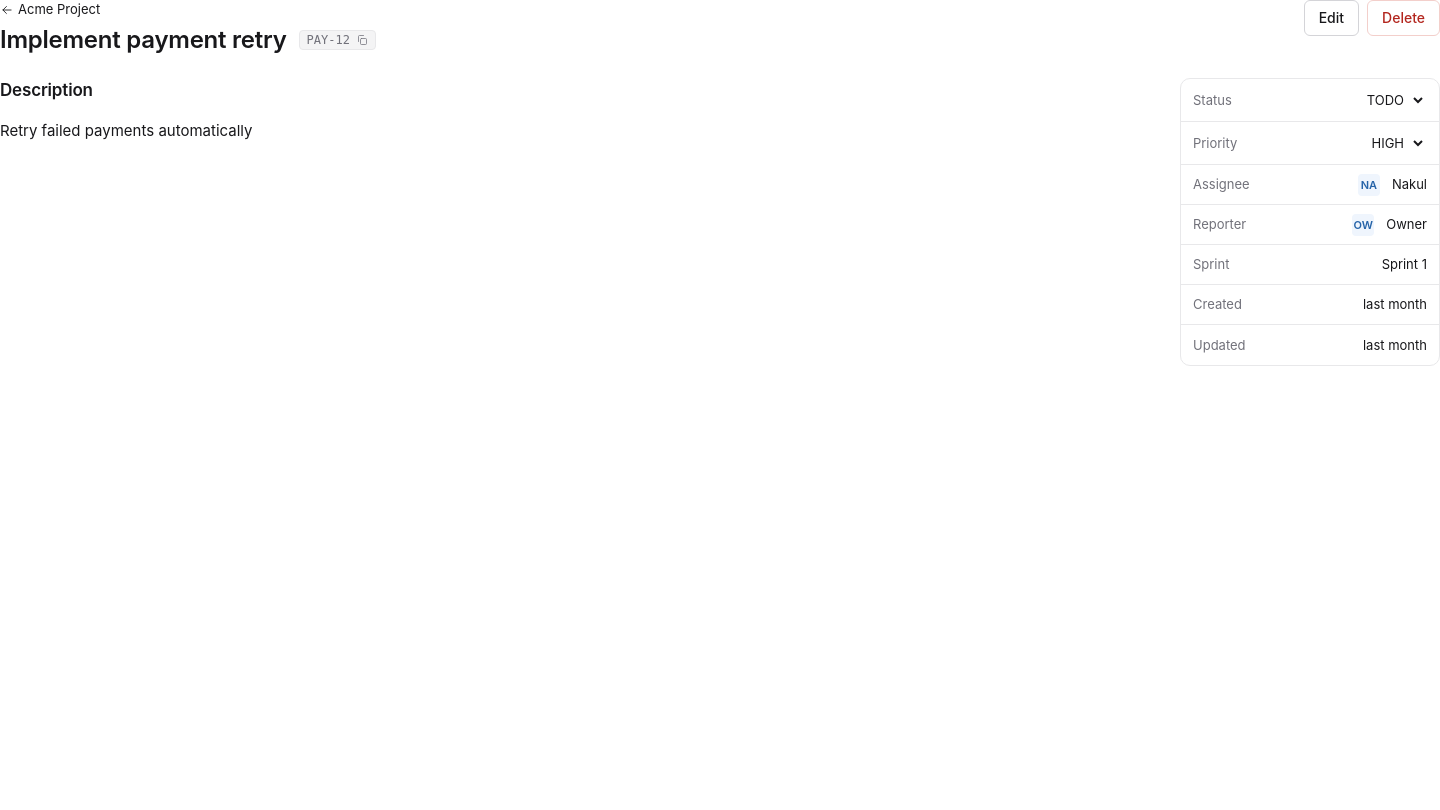
TaskPage › lets an owner edit the task and reflects the change
The image size is (1440, 810).
Expected: the button "PAY-12" is shown, [299,30,376,50]
Click the button "Edit" at (1331, 18), box [1304,0,1359,36]
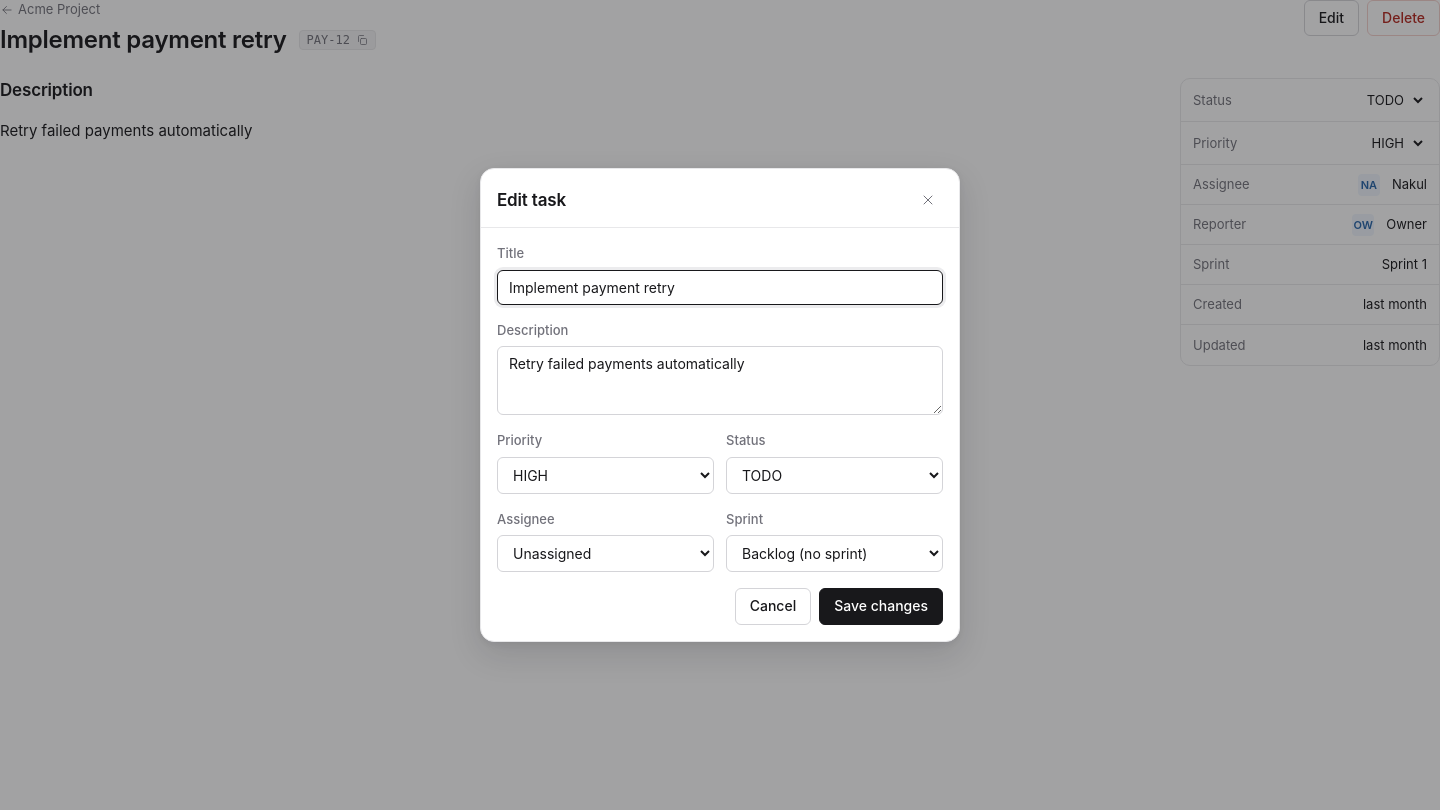
Replace the text in the field labelled "Title" with "Retry payments v2" at (720, 287), box [497,270,943,305]
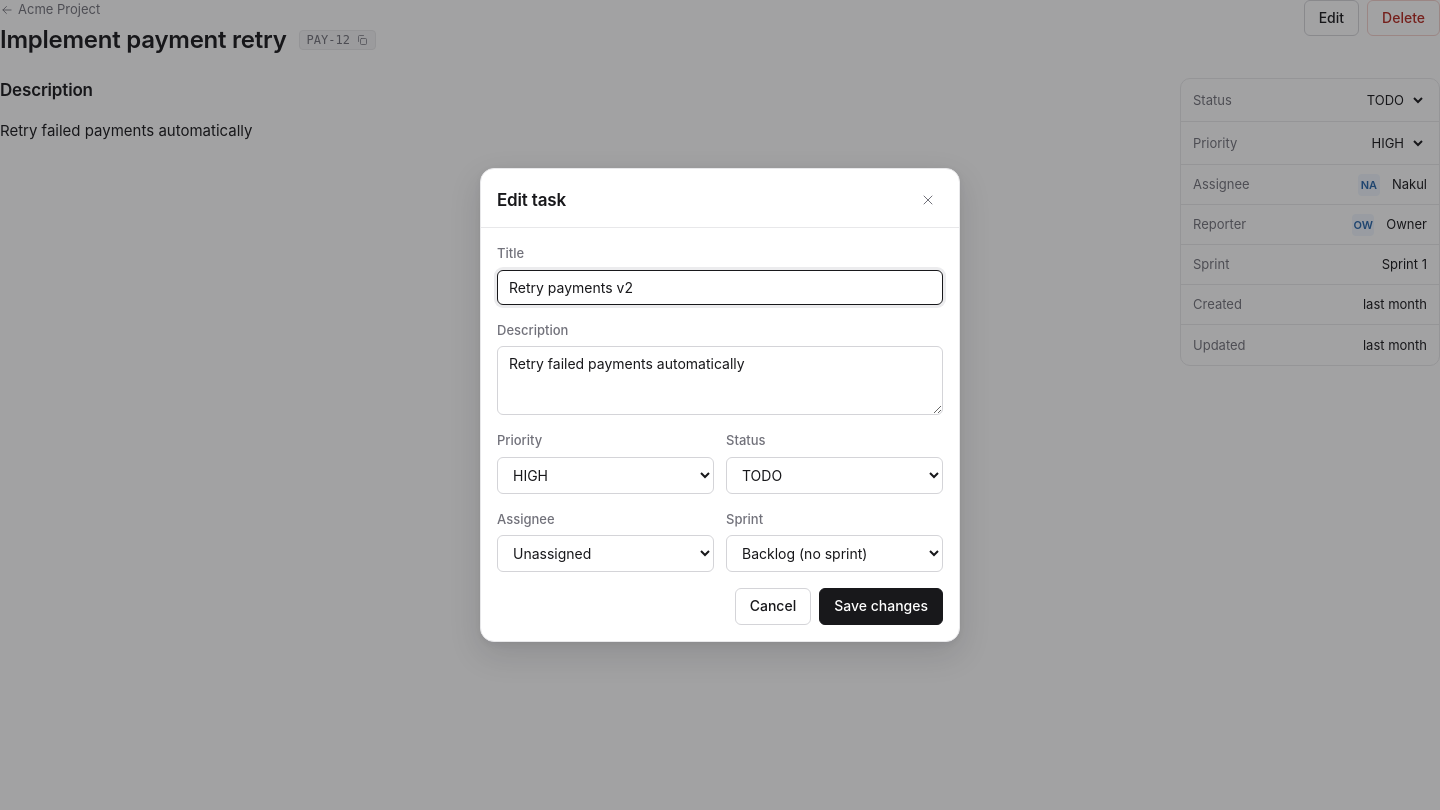
Click the button "Save changes" at (881, 606), box [819,588,943,625]
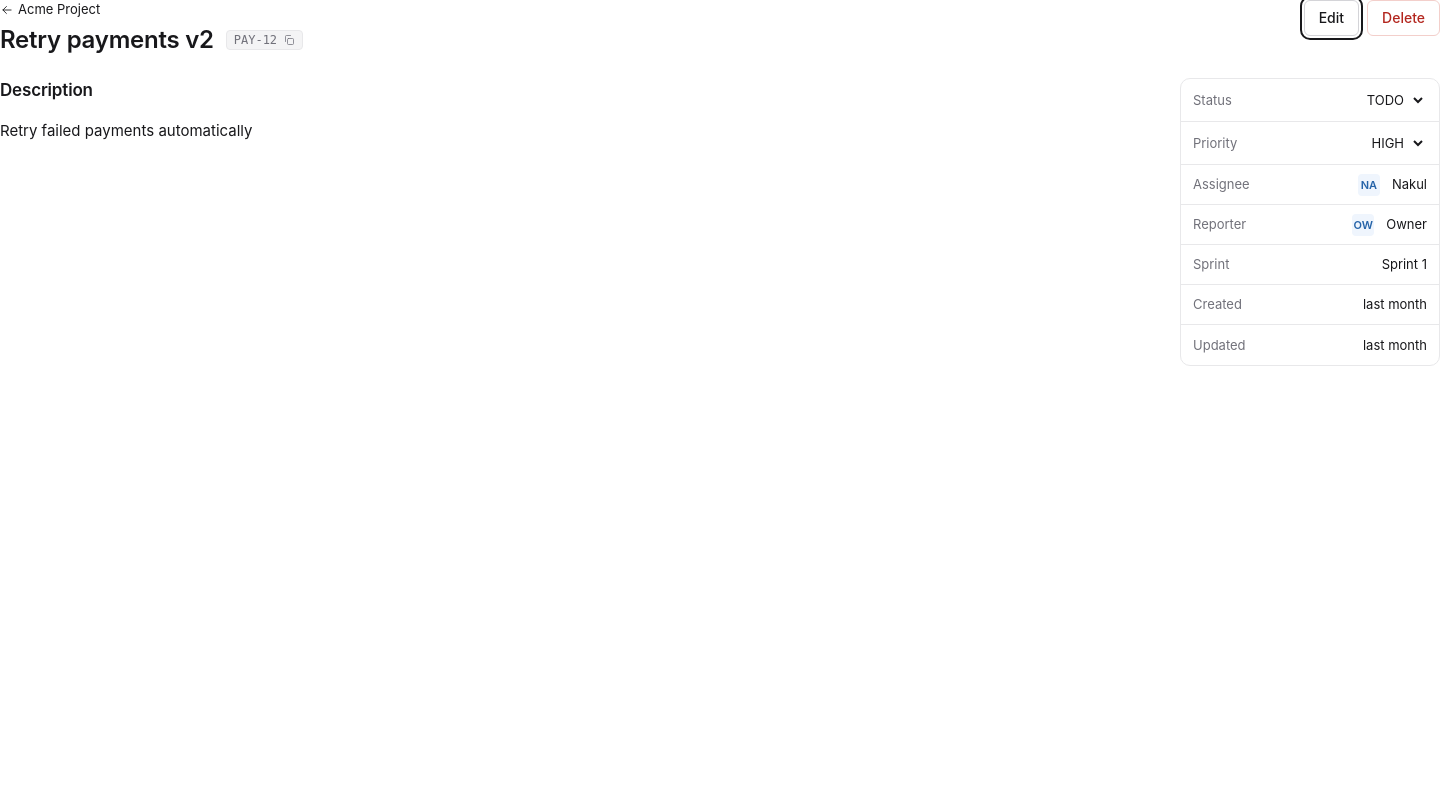
Expected: the heading "Retry payments v2" is shown, [0,26,214,54]
